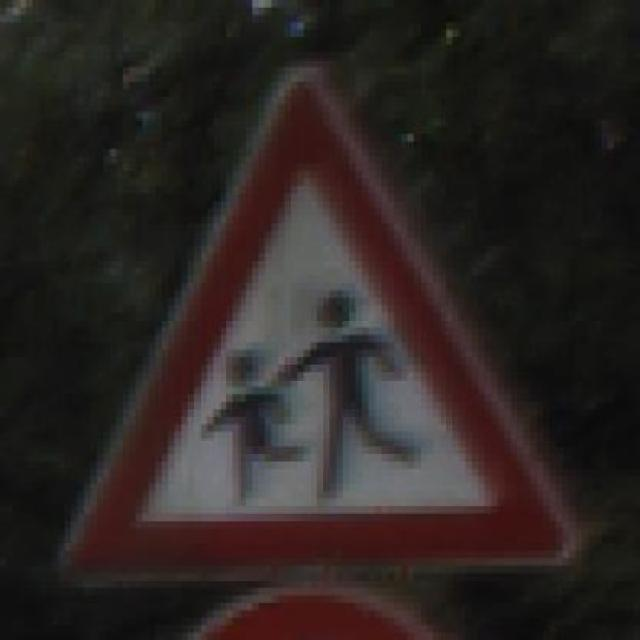Beware of children: (57, 51, 588, 588)
